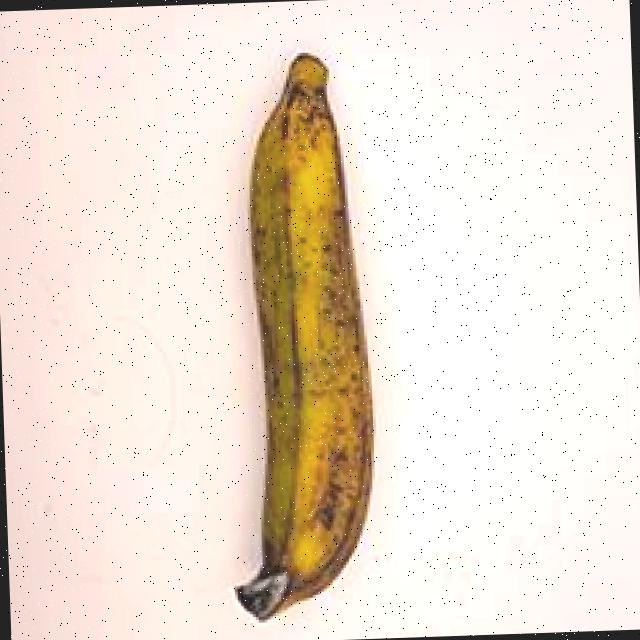Overripe: (169, 44, 428, 624)
